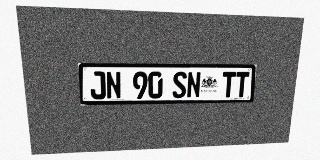0: (148, 71, 163, 99)
9: (133, 71, 148, 99)
J: (90, 71, 106, 99)
N: (106, 71, 121, 99), (187, 72, 201, 98)
S: (172, 72, 187, 98)
T: (221, 72, 236, 97), (235, 72, 249, 97)
